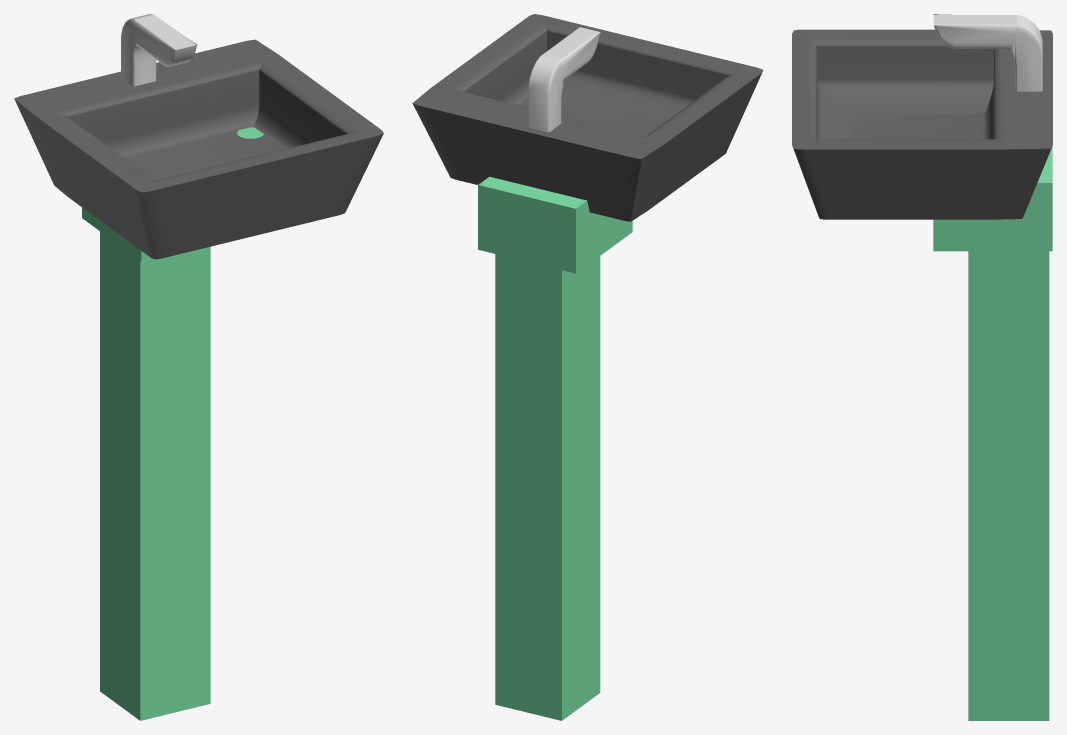
The model's file is sink2.gltf.
The picture shows the model from 3 angles, left to right: view 1: azimuth 30°, elevation 25°; view 2: azimuth 150°, elevation 25°; view 3: azimuth 270°, elevation 25°; orthographic projection. The views are drawn at different scales.
Parts seen in each view (by area): view 1: Cube.003; view 2: Cube.003; view 3: Cube.003.
Boxes of the visible parts, x1,y1,x2,y2 form: Cube.003: (14, 14, 383, 720); Cube.003: (412, 14, 763, 720); Cube.003: (792, 14, 1052, 720).
Size of the model in its own units: 20.88 by 55.25 by 19.19.
